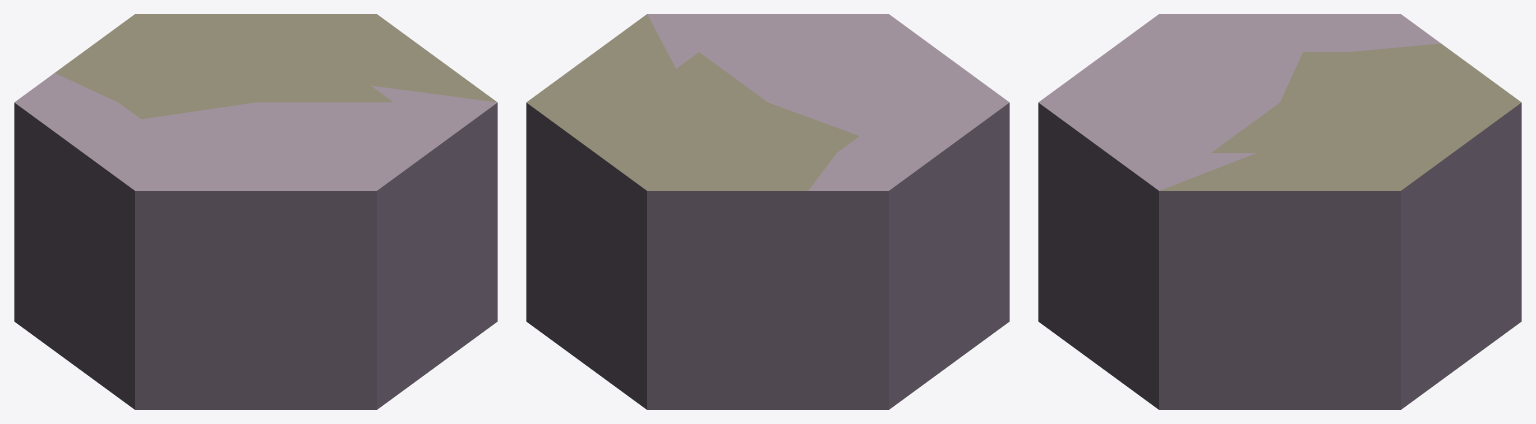
Rendered from AE_Hex_Mushroom_Sporebed.fbx.
3 renders of one model, left to right at view 1: azimuth 30°, elevation 25°; view 2: azimuth 150°, elevation 25°; view 3: azimuth 270°, elevation 25°, orthographic.
Parts seen in each view (by area): view 1: AE_Hex_Mushroom_Sporebed; view 2: AE_Hex_Mushroom_Sporebed; view 3: AE_Hex_Mushroom_Sporebed.
Part boxes in pixels (left/top/right/bottom): AE_Hex_Mushroom_Sporebed: left=14, top=14, right=497, bottom=409; AE_Hex_Mushroom_Sporebed: left=526, top=14, right=1009, bottom=409; AE_Hex_Mushroom_Sporebed: left=1038, top=14, right=1521, bottom=409.
Size of the model in its own units: 1.73 by 1 by 2.
